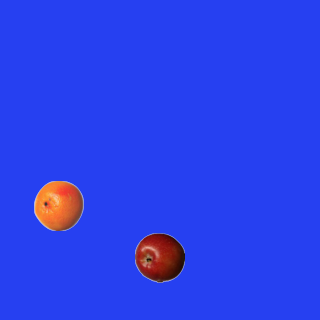Apple Braeburn: (134, 232, 184, 282)
Grapefruit Pink: (33, 180, 83, 230)
